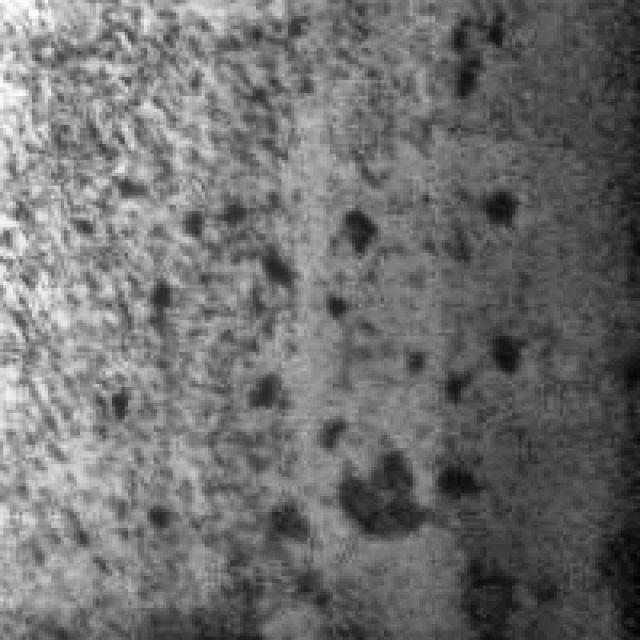Rolled_in_Scale: (41, 9, 352, 604), (246, 156, 432, 580)
